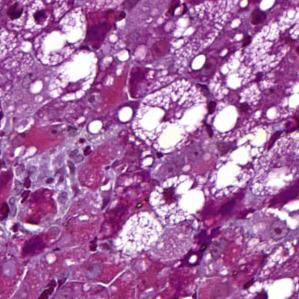ballooning: (130, 78, 212, 156), (31, 4, 88, 68), (148, 172, 208, 224)
